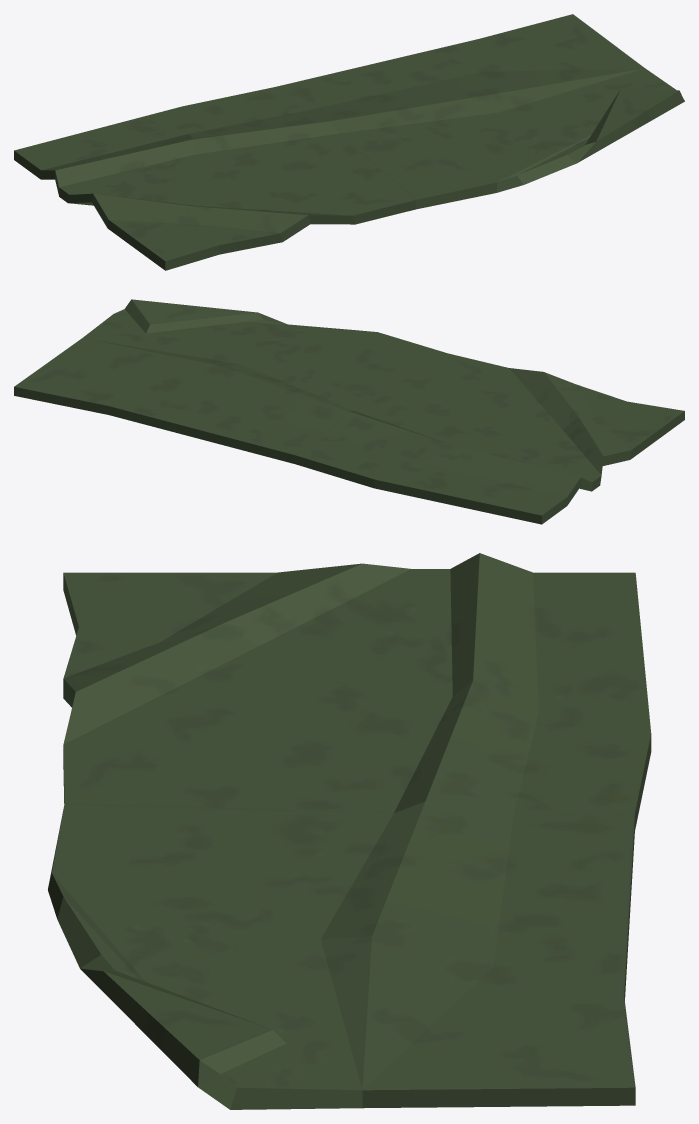
File: SM_Prop_Rug_04.obj
3 renders of one model, top to bottom at view 1: azimuth 30°, elevation 25°; view 2: azimuth 150°, elevation 25°; view 3: azimuth 270°, elevation 25°, orthographic. The views are drawn at different scales.
Parts seen in each view (by area): view 1: SM_Prop_Rug_04_0; view 2: SM_Prop_Rug_04_0; view 3: SM_Prop_Rug_04_0.
Boxes of the visible parts, bbox=[...] form: SM_Prop_Rug_04_0: bbox=[14, 14, 684, 270]; SM_Prop_Rug_04_0: bbox=[14, 299, 684, 524]; SM_Prop_Rug_04_0: bbox=[48, 553, 651, 1109].
Size of the model in its own units: 3.96 by 0.1409 by 1.93.
1 material, 1 textured.
